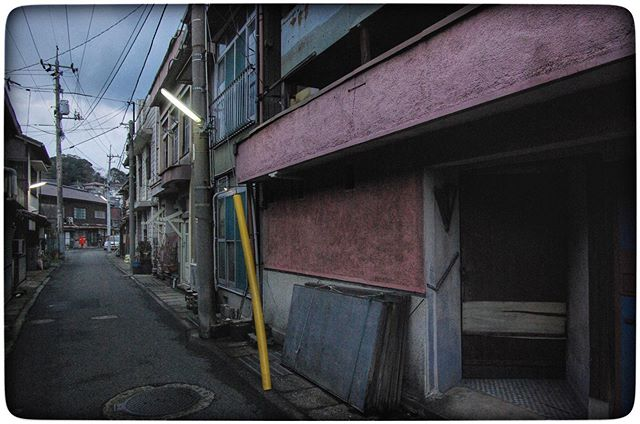building: (268, 1, 640, 379), (187, 1, 268, 319), (147, 39, 205, 306), (1, 134, 47, 307), (120, 119, 161, 268), (41, 189, 135, 245)
power pole: (33, 44, 84, 256)
sky: (1, 7, 175, 160)
street: (30, 249, 288, 424)
